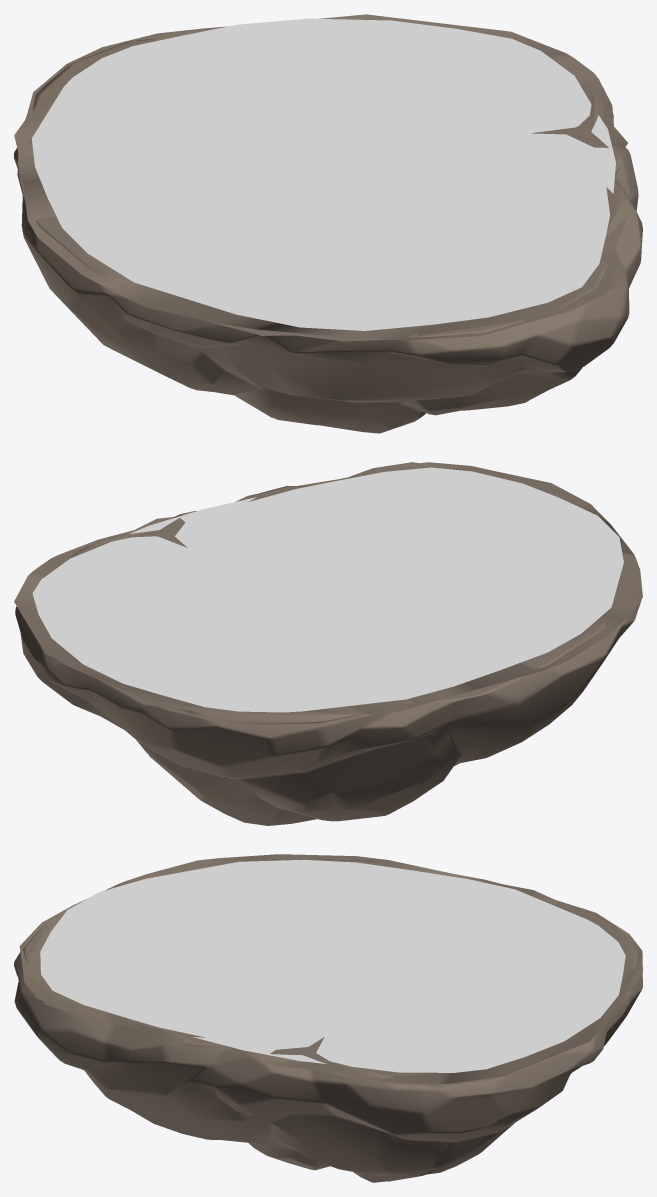
The model's file is IlhaP1.fbx.
The picture shows the model from 3 angles, top to bottom: view 1: azimuth 30°, elevation 25°; view 2: azimuth 150°, elevation 25°; view 3: azimuth 270°, elevation 25°; orthographic projection. The views are drawn at different scales.
Visible parts, largest first — view 1: IlhaP1Grama, IlhaP1, IlhaP1Colisor; view 2: IlhaP1Grama, IlhaP1, IlhaP1Colisor; view 3: IlhaP1Grama, IlhaP1, IlhaP1Colisor.
Boxes of the visible parts, box(x1,y1,x2,y2) form: IlhaP1Grama: box(32, 18, 615, 330); IlhaP1: box(14, 39, 642, 433); IlhaP1Colisor: box(14, 14, 629, 340); IlhaP1Grama: box(32, 467, 623, 712); IlhaP1: box(15, 467, 641, 825); IlhaP1Colisor: box(14, 462, 642, 724); IlhaP1Grama: box(40, 859, 625, 1072); IlhaP1: box(14, 858, 642, 1182); IlhaP1Colisor: box(19, 854, 642, 1084).
Size of the model in its own units: 1237 by 504 by 1429.
